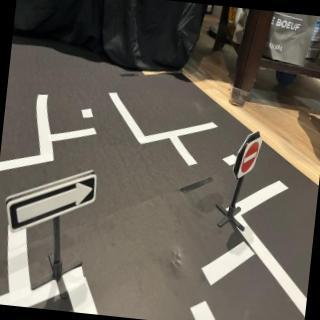sign_noentry: (236, 135, 265, 184)
sign_oneway_right: (2, 163, 100, 245)
